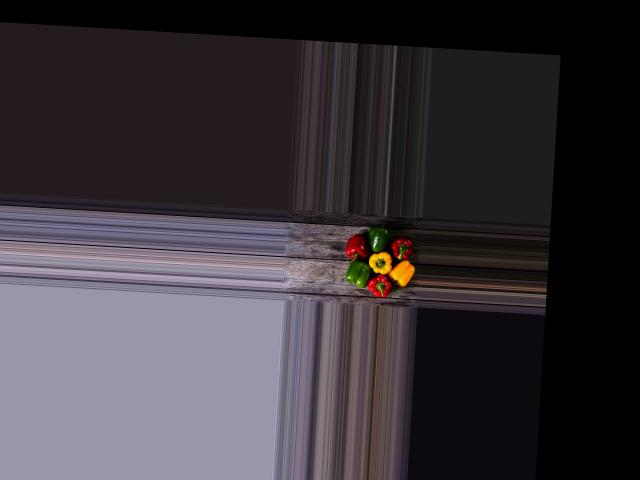bell_pepper: (389, 236, 419, 265)
